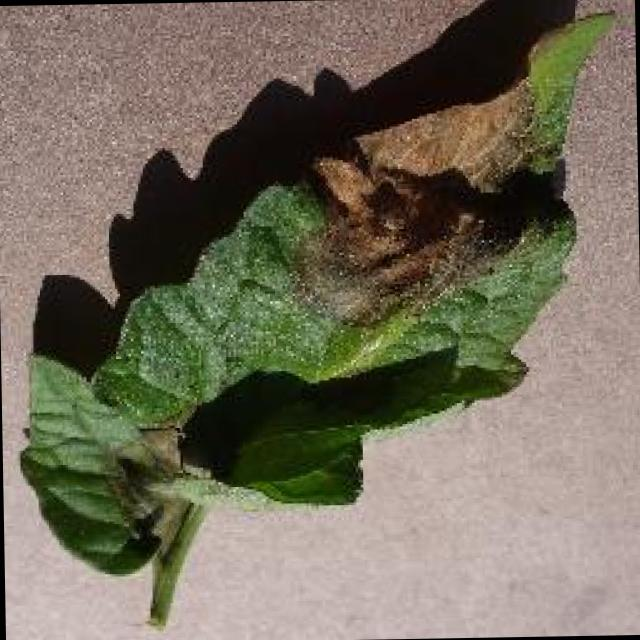Tomato_Late_Blight: (264, 64, 562, 330), (98, 402, 226, 557)
